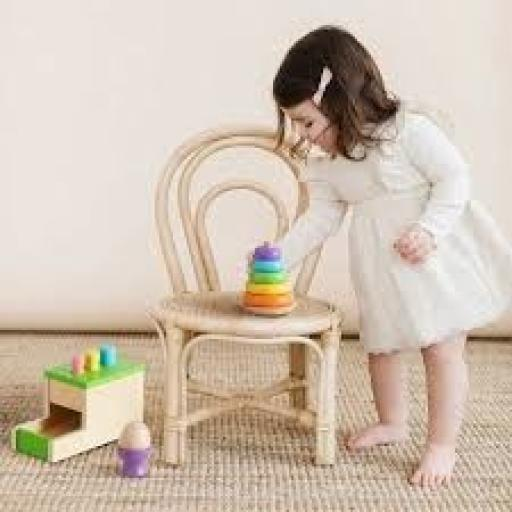baby: (248, 23, 512, 488)
